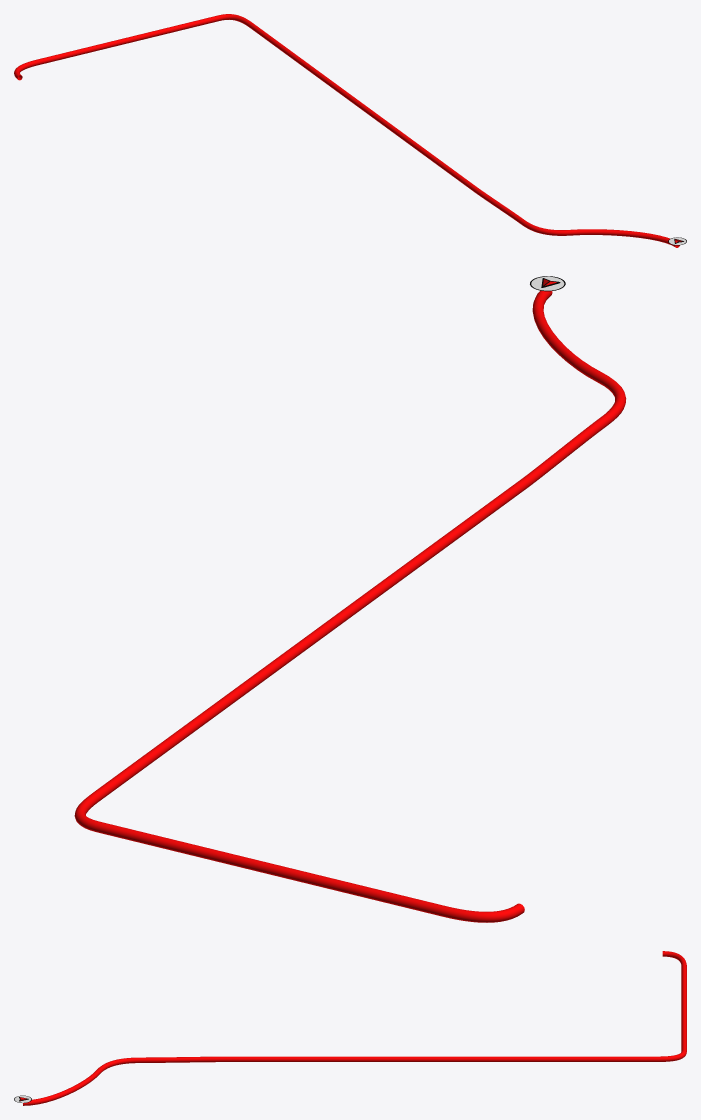
The model's file is route_01842975-ba56-4e16-9e3d-575a020f45e8_de_single.glb.
3 views of the same model, one above another, from view 1: azimuth 30°, elevation 25°; view 2: azimuth 150°, elevation 25°; view 3: azimuth 270°, elevation 25° (orthographic). The views are drawn at different scales.
Parts seen in each view (by area): view 1: A7, Abteil 1; view 2: A7, Abteil 1; view 3: A7, Abteil 1.
Boxes of the visible parts, x1,y1,x2,y2 form: A7, Abteil 1: [14, 14, 679, 247]; A7, Abteil 1: [74, 290, 626, 922]; A7, Abteil 1: [23, 951, 686, 1105].
Size of the model in its own units: 5.27 by 0.1062 by 9.72.
